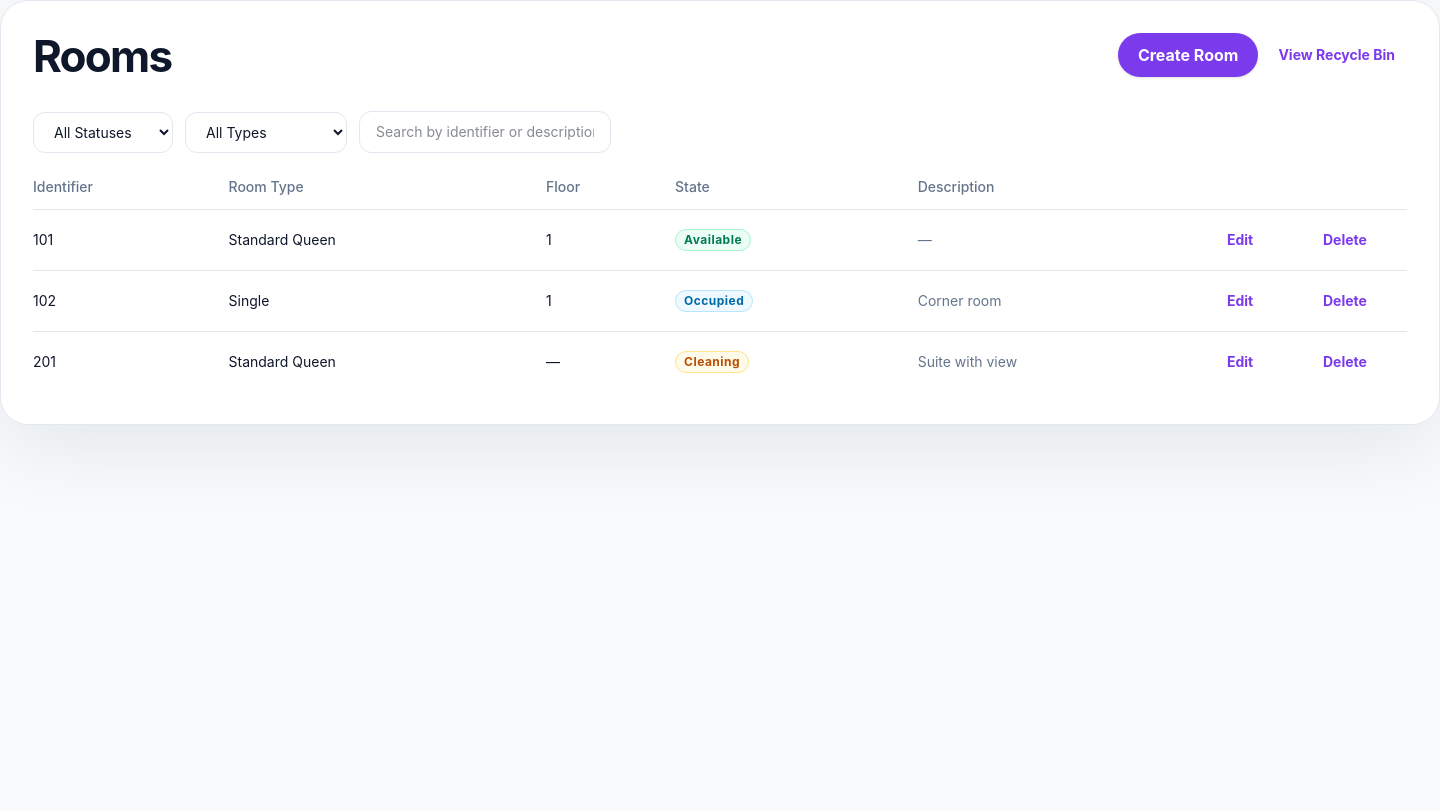
Test: RoomsPage › modal edit flow › opens the edit modal with pre-filled data when Edit is clicked
Click the button "Edit" in the row of "101": (1240, 240) [1215,222,1265,258]
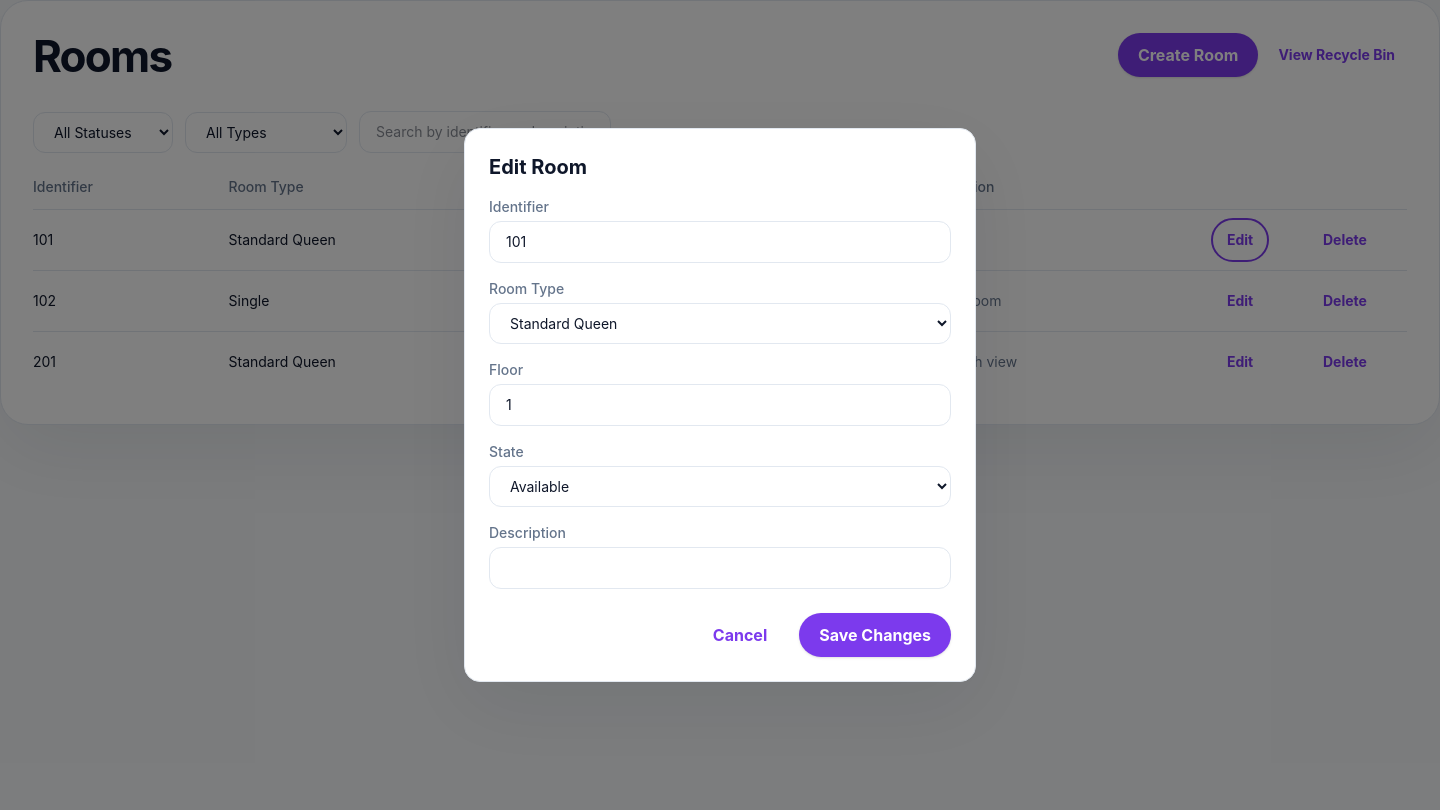
Expected: the dialog is shown, [464,128,976,682]
Expected: the heading "Edit Room" is shown, [489,155,587,179]
Expected: the field labelled "Identifier" holds "101", [489,221,951,263]
